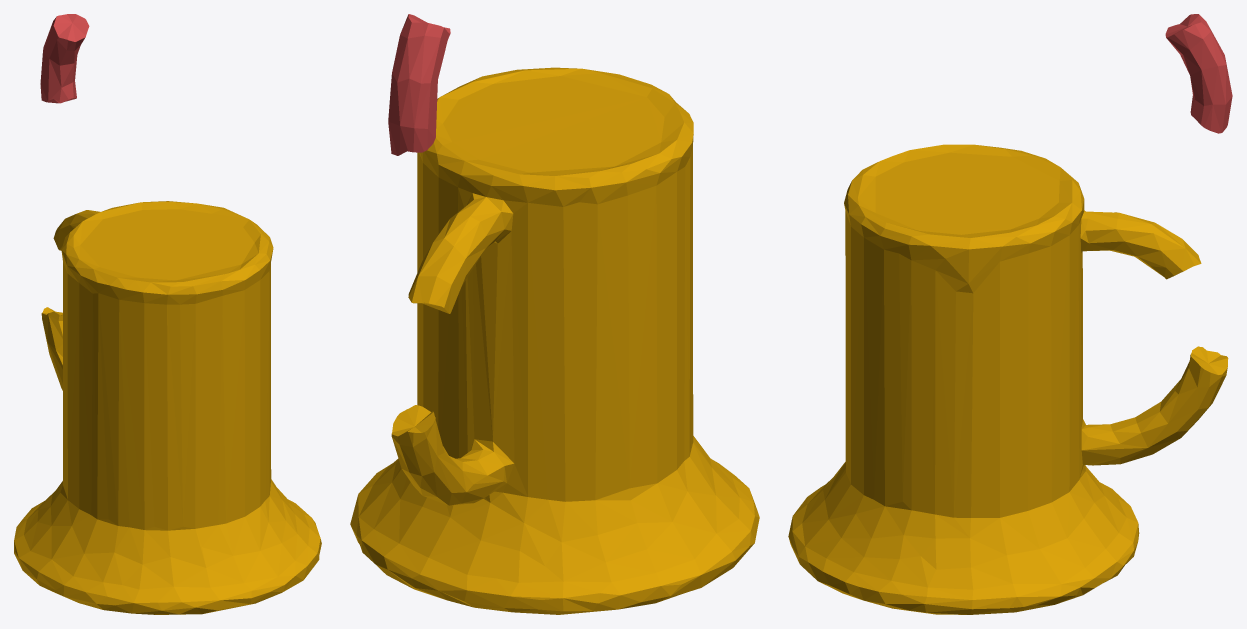
The model's file is fractured_46_2pcs_transformed.glb.
3 renders of one model, left to right at view 1: azimuth 30°, elevation 25°; view 2: azimuth 150°, elevation 25°; view 3: azimuth 270°, elevation 25°, orthographic. The views are drawn at different scales.
Parts seen in each view (by area): view 1: piece_0.obj, piece_1.obj; view 2: piece_0.obj, piece_1.obj; view 3: piece_0.obj, piece_1.obj.
Boxes of the visible parts, x1,y1,x2,y2 form: piece_0.obj: [14, 201, 321, 614]; piece_1.obj: [40, 14, 89, 103]; piece_0.obj: [350, 67, 759, 614]; piece_1.obj: [388, 14, 450, 155]; piece_0.obj: [788, 144, 1228, 614]; piece_1.obj: [1165, 14, 1232, 133].
Bounding box in the file's own units: 0.7907 × 1.31 × 1.
